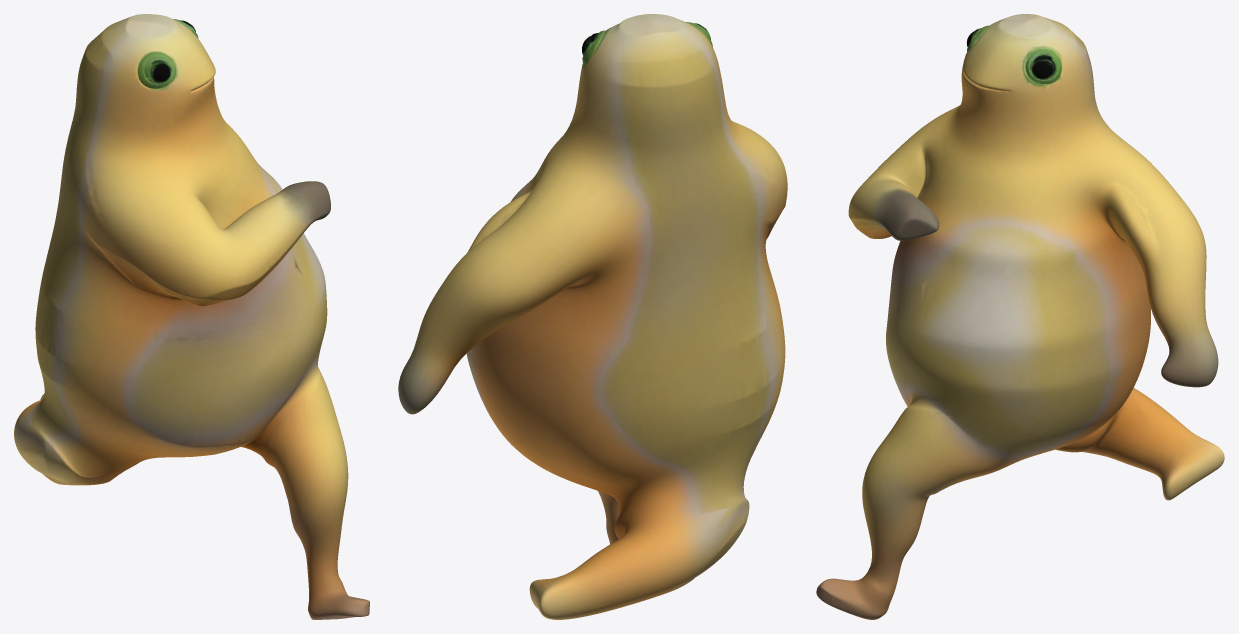
File: frog-run-v2-fix-opt.glb
3 renders of one model, left to right at view 1: azimuth 30°, elevation 25°; view 2: azimuth 150°, elevation 25°; view 3: azimuth 270°, elevation 25°, orthographic. The views are drawn at different scales.
Visible parts, largest first — view 1: node_0; view 2: node_0; view 3: node_0.
Part boxes in pixels (box(x1,y1,x2,y2)): node_0: box(14, 14, 369, 619); node_0: box(398, 14, 787, 619); node_0: box(816, 14, 1224, 619).
Bounding box in the file's own units: 0.4829 × 1.02 × 0.6907.
Materials: 1 (1 with a texture image).
